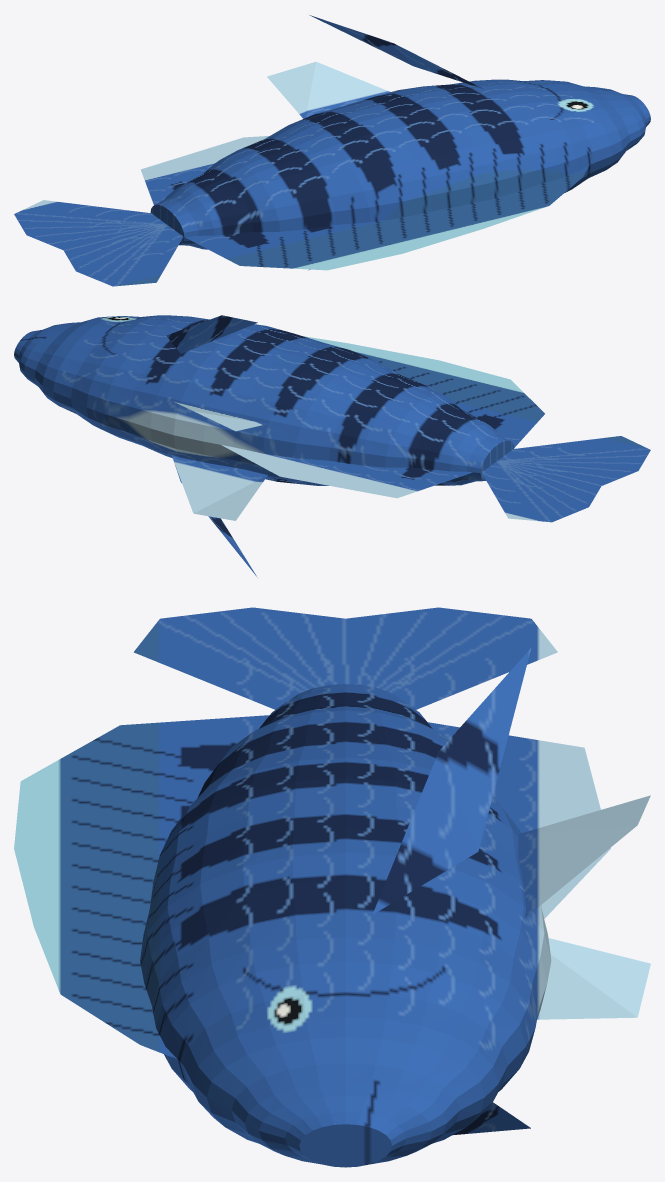
File: cichlid.obj
The picture shows the model from 3 angles, top to bottom: view 1: azimuth 30°, elevation 25°; view 2: azimuth 150°, elevation 25°; view 3: azimuth 270°, elevation 25°; orthographic projection. The views are drawn at different scales.
Parts seen in each view (by area): view 1: cichlid; view 2: cichlid; view 3: cichlid.
Boxes of the visible parts, x1,y1,x2,y2 form: cichlid: (14,15,650,286); cichlid: (14,315,650,577); cichlid: (14,607,650,1167).
Size of the model in its own units: 0.96 by 0.4 by 0.48.
1 material, 1 textured.
